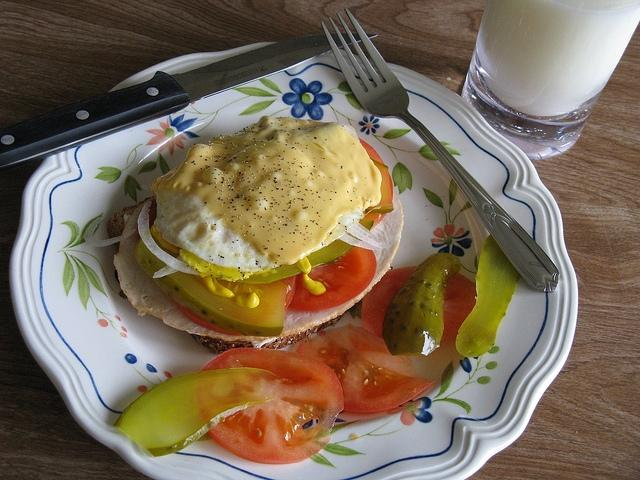onion: (138, 200, 202, 276), (84, 218, 137, 246), (338, 221, 387, 250), (153, 256, 185, 278)
tomato: (200, 346, 344, 466), (296, 325, 436, 413), (362, 266, 478, 341), (174, 275, 298, 336), (288, 246, 376, 311), (359, 138, 393, 231)
